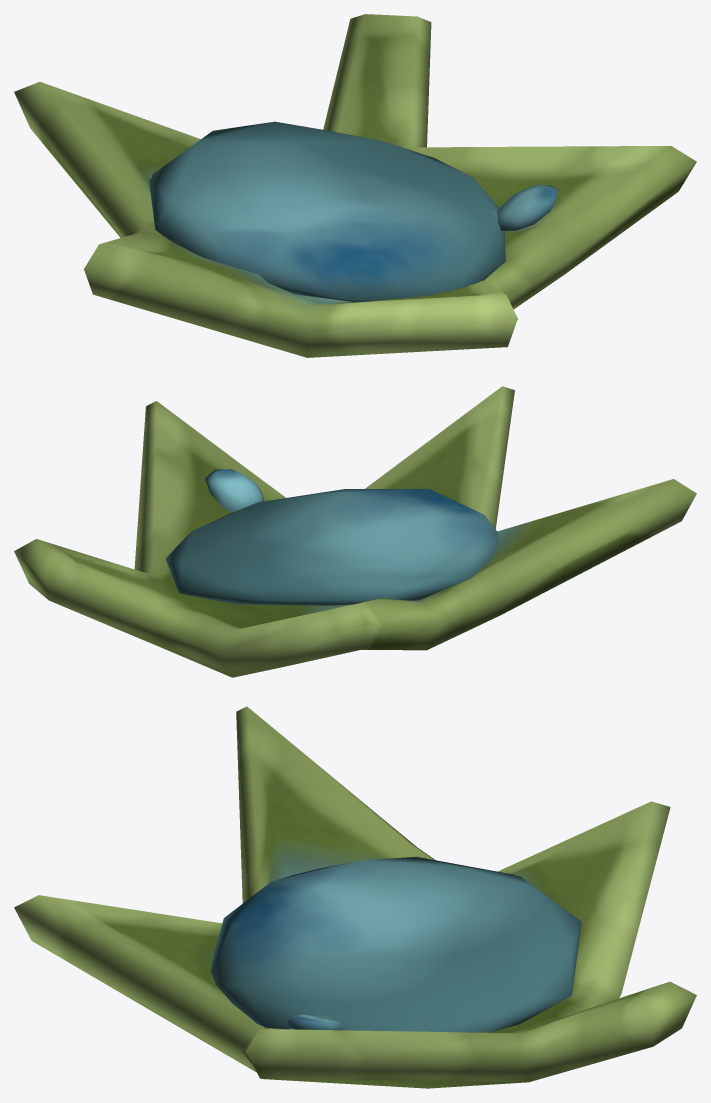
The model's file is leaf.fbx.
3 renders of one model, top to bottom at view 1: azimuth 30°, elevation 25°; view 2: azimuth 150°, elevation 25°; view 3: azimuth 270°, elevation 25°, orthographic. The views are drawn at different scales.
Parts seen in each view (by area): view 1: leaf; view 2: leaf; view 3: leaf.
Boxes of the visible parts, <box> form: leaf: <box>14,14,696,357</box>; leaf: <box>14,386,696,677</box>; leaf: <box>14,706,696,1088</box>.
Bounding box in the file's own units: 106 × 33.49 × 103.
